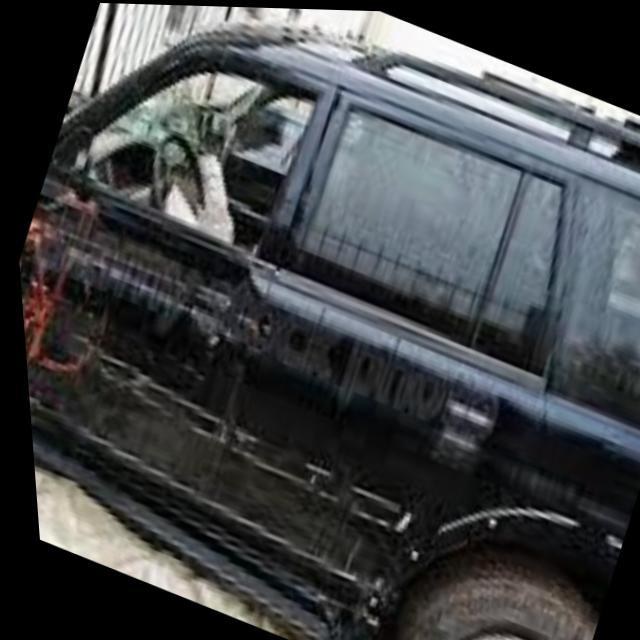rub: (15, 164, 429, 640)
